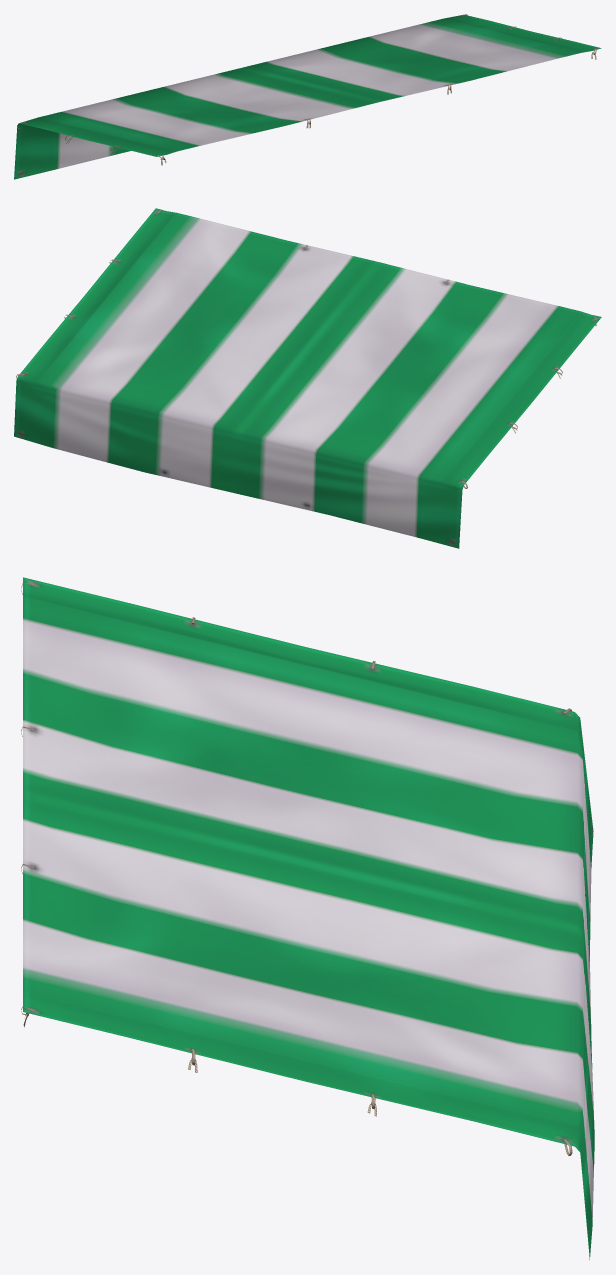
Rendered from jsf_Ceiling_s04_c04_t01.fbx.
3 views of the same model, one above another, from view 1: azimuth 30°, elevation 25°; view 2: azimuth 150°, elevation 25°; view 3: azimuth 270°, elevation 25° (orthographic). The views are drawn at different scales.
Visible parts, largest first — view 1: jsf_Ceiling_s04_c04_t01; view 2: jsf_Ceiling_s04_c04_t01; view 3: jsf_Ceiling_s04_c04_t01.
Boxes of the visible parts, box(x1,y1,x2,y2) form: jsf_Ceiling_s04_c04_t01: box(14, 14, 601, 179); jsf_Ceiling_s04_c04_t01: box(14, 208, 601, 548); jsf_Ceiling_s04_c04_t01: box(21, 577, 594, 1259).
Size of the model in its own units: 394 by 106 by 216.
